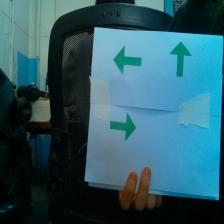left: (113, 46, 141, 76)
right: (110, 112, 136, 143)
